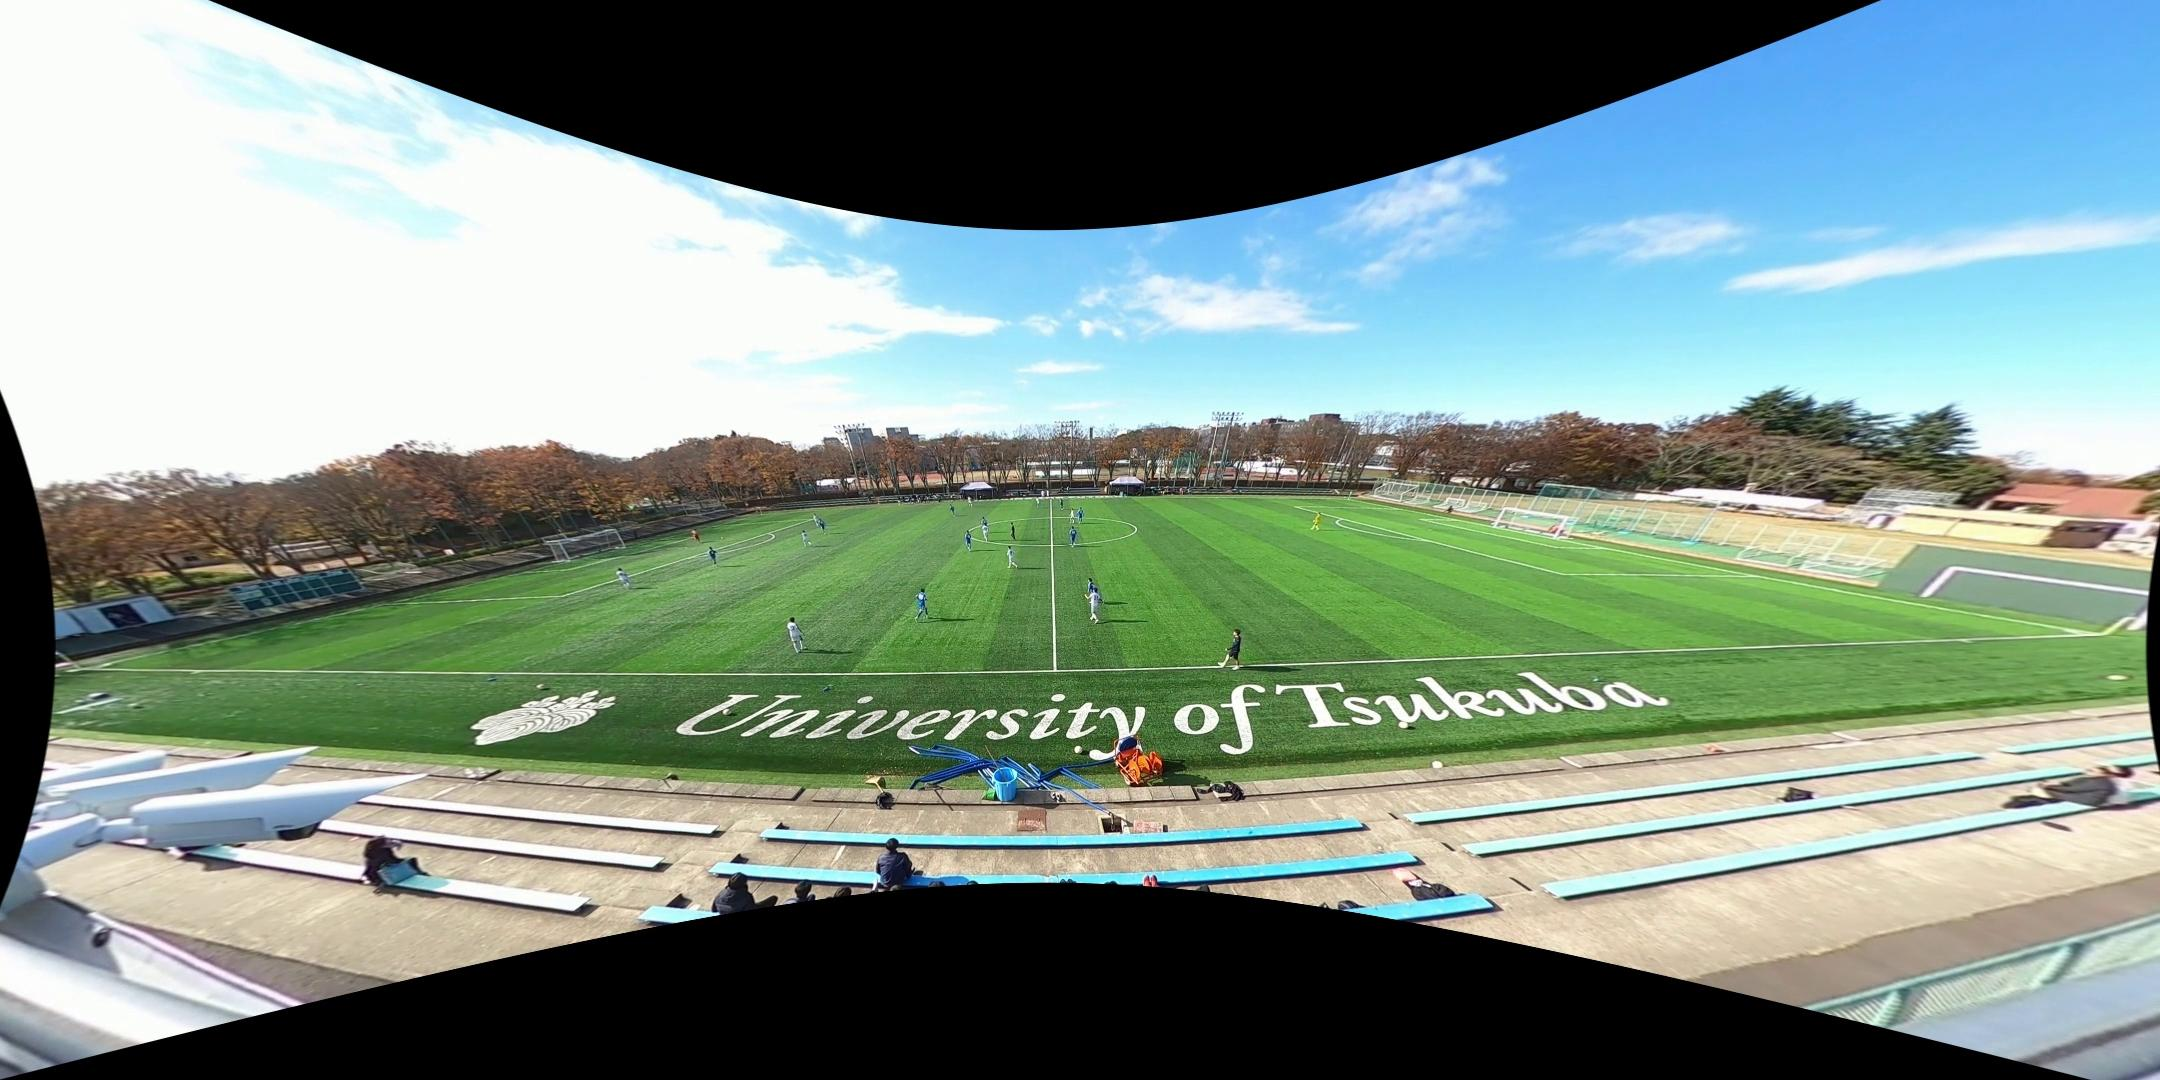person: (1217, 628, 1247, 672), (787, 616, 810, 655), (1085, 587, 1104, 625), (914, 587, 933, 622), (1084, 578, 1105, 608), (616, 566, 634, 590), (1311, 509, 1325, 532), (1006, 544, 1018, 569), (801, 529, 813, 548), (1069, 525, 1079, 547), (965, 529, 974, 552), (980, 516, 990, 536), (818, 518, 829, 535), (813, 512, 823, 530), (709, 546, 718, 566), (691, 528, 702, 544), (1010, 521, 1018, 541), (1077, 507, 1085, 525), (983, 523, 990, 543), (1058, 497, 1066, 511), (1069, 507, 1076, 523), (949, 503, 956, 517), (967, 495, 974, 509), (1035, 496, 1042, 507)
sports ball: (1430, 758, 1446, 772), (1395, 718, 1411, 731), (1072, 743, 1085, 756), (722, 706, 733, 716), (536, 682, 547, 691), (720, 536, 725, 541)
